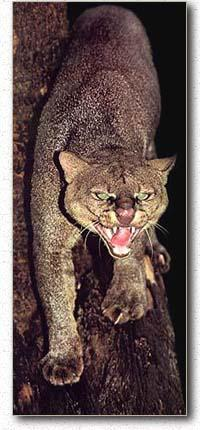Jaguarundi: (28, 11, 179, 392)
